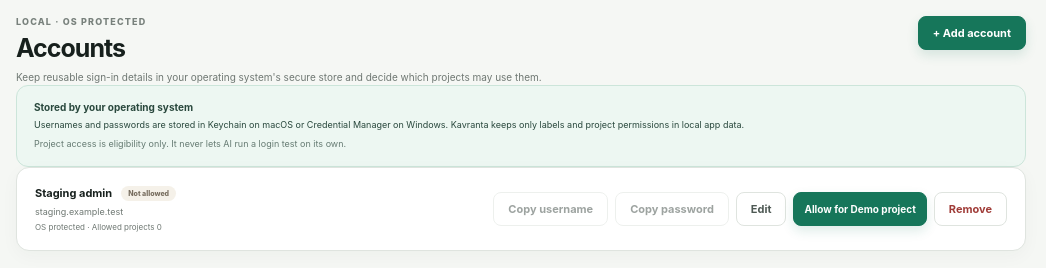
Test: AccountVault › requires an explicit desktop action before this project can use an account
Expected: the text "Staging admin" is shown, x1=35 y1=186 x2=112 y2=200
Expected: the text "Not allowed" is shown, x1=121 y1=186 x2=176 y2=201
What coordinates should you click on to do the following:
click the button "Allow for Demo project"
I would click on:
 (860, 209)
Its box is x1=793 y1=192 x2=927 y2=226.
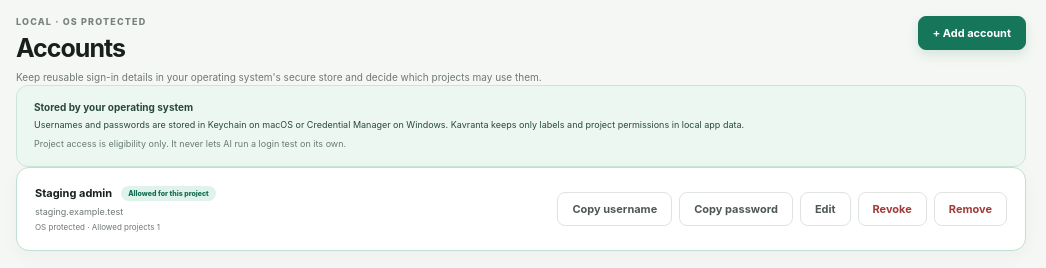
Now the text "Allowed for this project" is shown, box x1=121 y1=186 x2=216 y2=201
Now the button "Copy password" is enabled, box x1=679 y1=192 x2=793 y2=226
